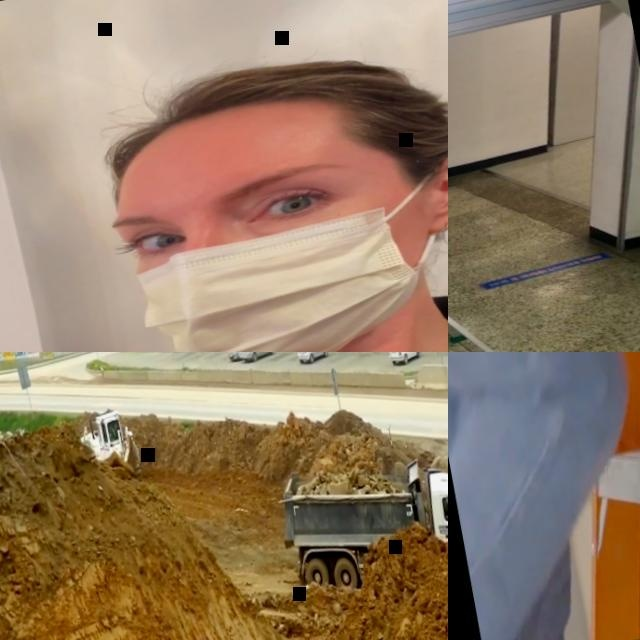Mask: (123, 171, 448, 352)
NO-Hardhat: (100, 33, 448, 188)
Person: (0, 7, 448, 352), (448, 352, 640, 640)
machinery: (270, 437, 448, 603), (75, 403, 147, 493)
vehicle: (386, 352, 423, 368), (236, 352, 277, 365), (295, 352, 331, 366), (225, 352, 258, 362)
